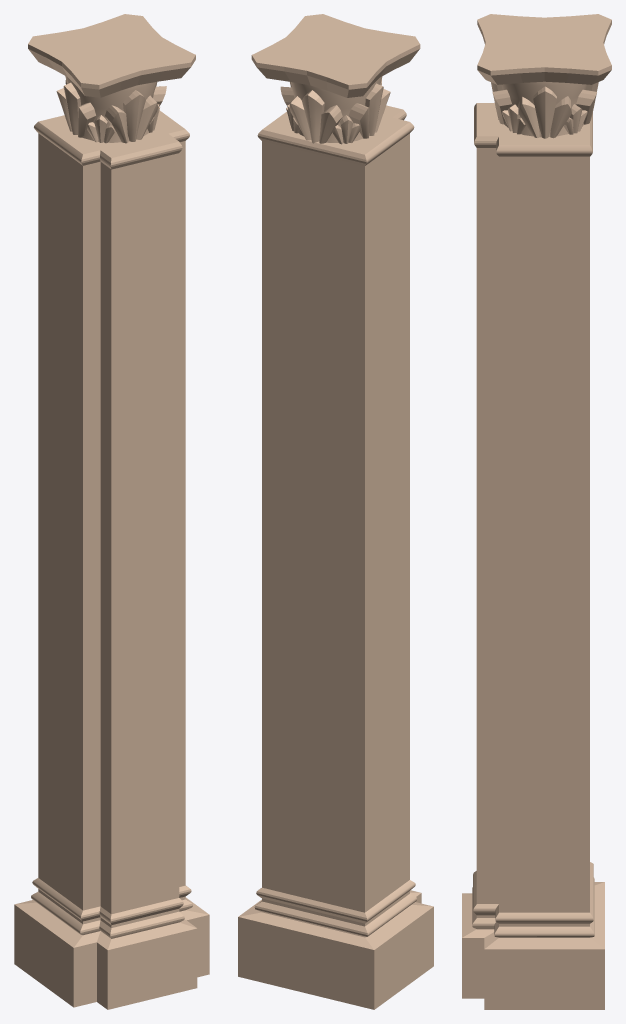
File: BC_InsidePillar_E.fbx
3 views of the same model, side by side, from view 1: azimuth 30°, elevation 25°; view 2: azimuth 150°, elevation 25°; view 3: azimuth 270°, elevation 25° (orthographic).
Visible parts, largest first — view 1: BC_InsidePillar_E; view 2: BC_InsidePillar_E; view 3: BC_InsidePillar_E.
Part boxes in pixels (box(x1,y1,x2,y2)): BC_InsidePillar_E: box(14, 14, 209, 1009); BC_InsidePillar_E: box(238, 14, 433, 1009); BC_InsidePillar_E: box(462, 14, 611, 1009).
Size of the model in its own units: 175 by 1131 by 165.
